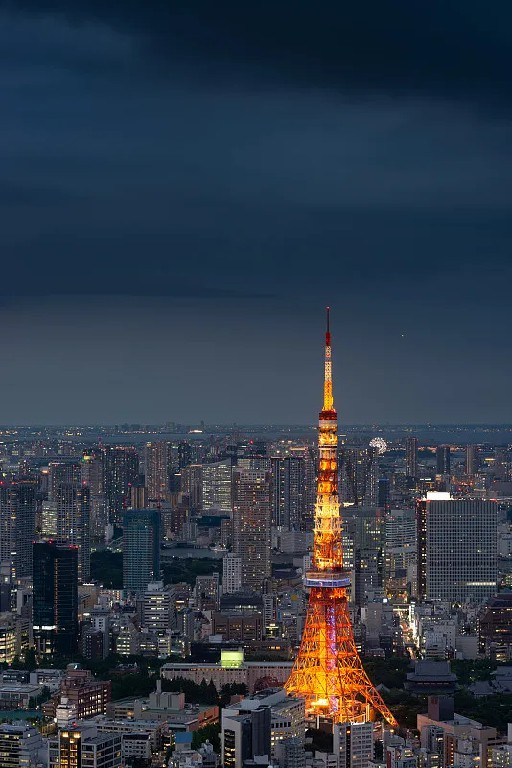Tokyo: (282, 300, 397, 733)
